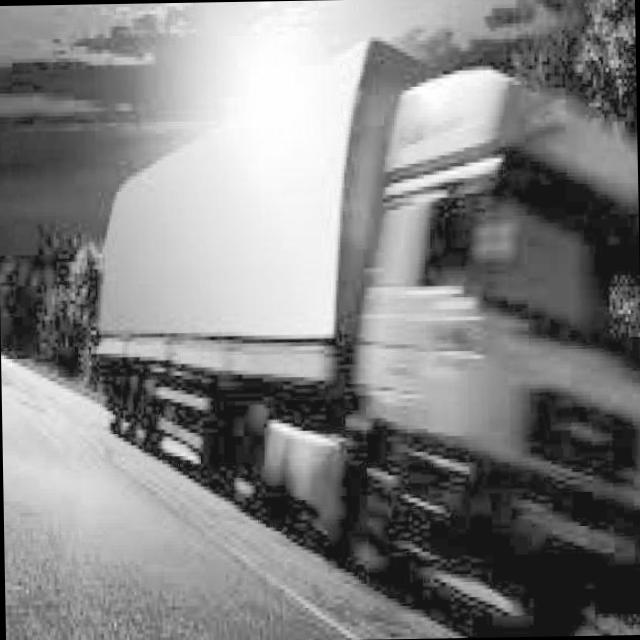Truck: (81, 28, 640, 640)
